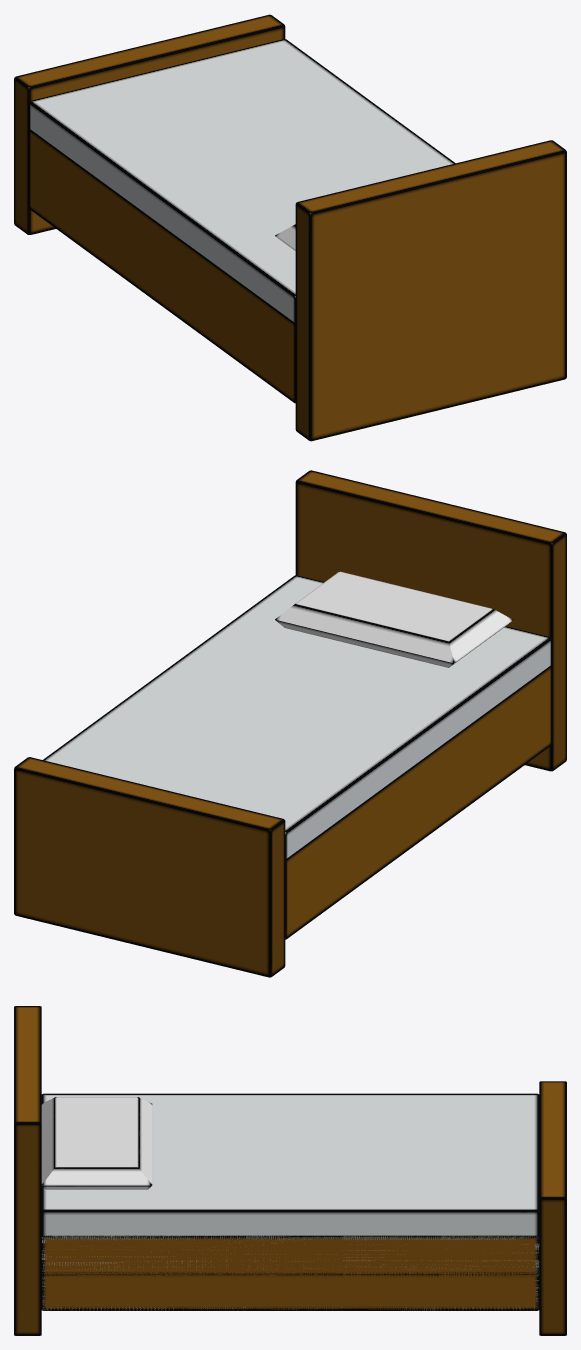
The model's file is bed.obj.
3 renders of one model, top to bottom at view 1: azimuth 30°, elevation 25°; view 2: azimuth 150°, elevation 25°; view 3: azimuth 270°, elevation 25°, orthographic. The views are drawn at different scales.
Parts seen in each view (by area): view 1: cube; view 2: cube; view 3: cube.
Boxes of the visible parts, x1=… form: cube: x1=14, y1=14, x2=566, y2=441; cube: x1=14, y1=470, x2=566, y2=977; cube: x1=14, y1=1006, x2=566, y2=1335.
Size of the model in its own units: 1.25 by 1.06 by 2.5.
Materials: 1 (1 with a texture image).
